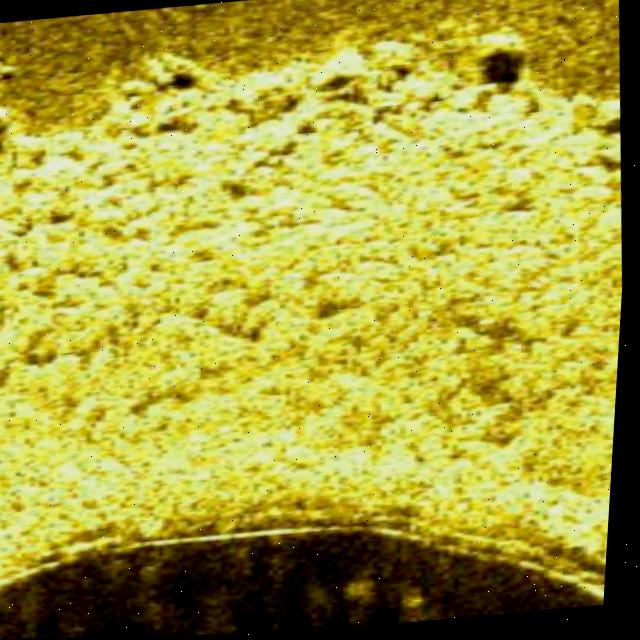bedrock group: (0, 10, 639, 640)
